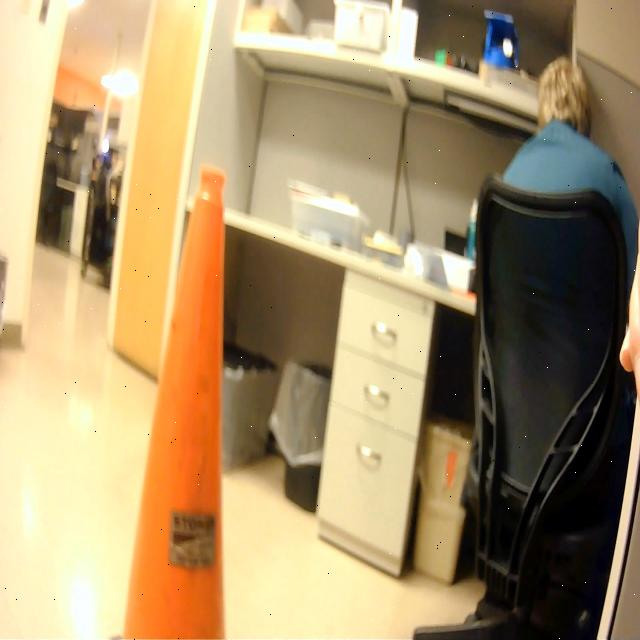traffic cone: (106, 156, 233, 640)
